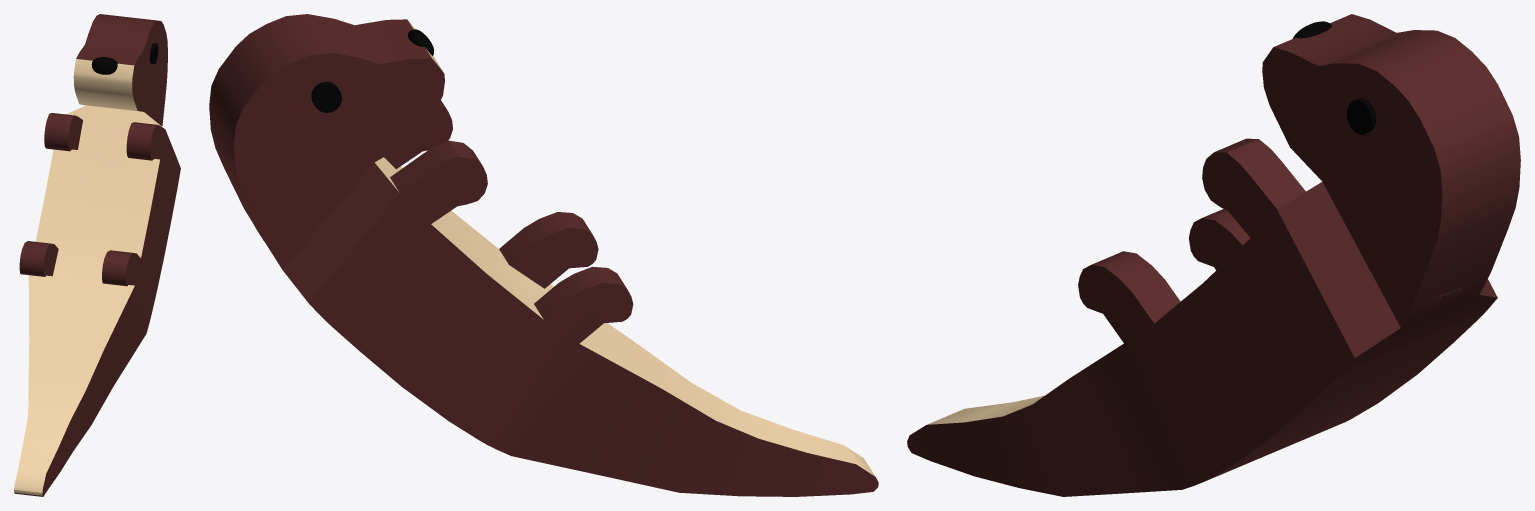
File: otter.fbx
3 views of the same model, side by side, from view 1: azimuth 30°, elevation 25°; view 2: azimuth 150°, elevation 25°; view 3: azimuth 270°, elevation 25° (orthographic). The views are drawn at different scales.
Parts seen in each view (by area): view 1: Plane.145, Cube.6273; view 2: Plane.145, Circle.1932; view 3: Plane.145, Circle.1932.
Part boxes in pixels (box(x1,y1,x2,y2)): Plane.145: box(14, 14, 180, 496); Cube.6273: box(91, 57, 117, 74); Plane.145: box(209, 14, 878, 496); Circle.1932: box(311, 81, 341, 112); Plane.145: box(907, 14, 1520, 496); Circle.1932: box(1346, 98, 1376, 134).
Size of the model in its own units: 191 by 204 by 191.
Materials: 1 (1 with a texture image).
